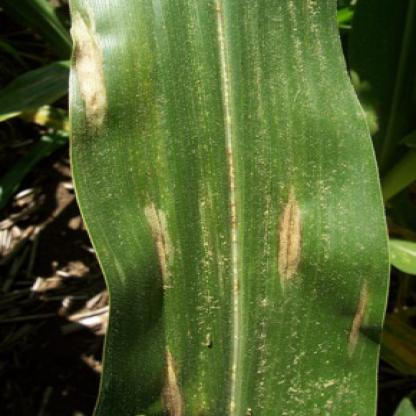Corn leaf blight: (66, 1, 374, 415)
